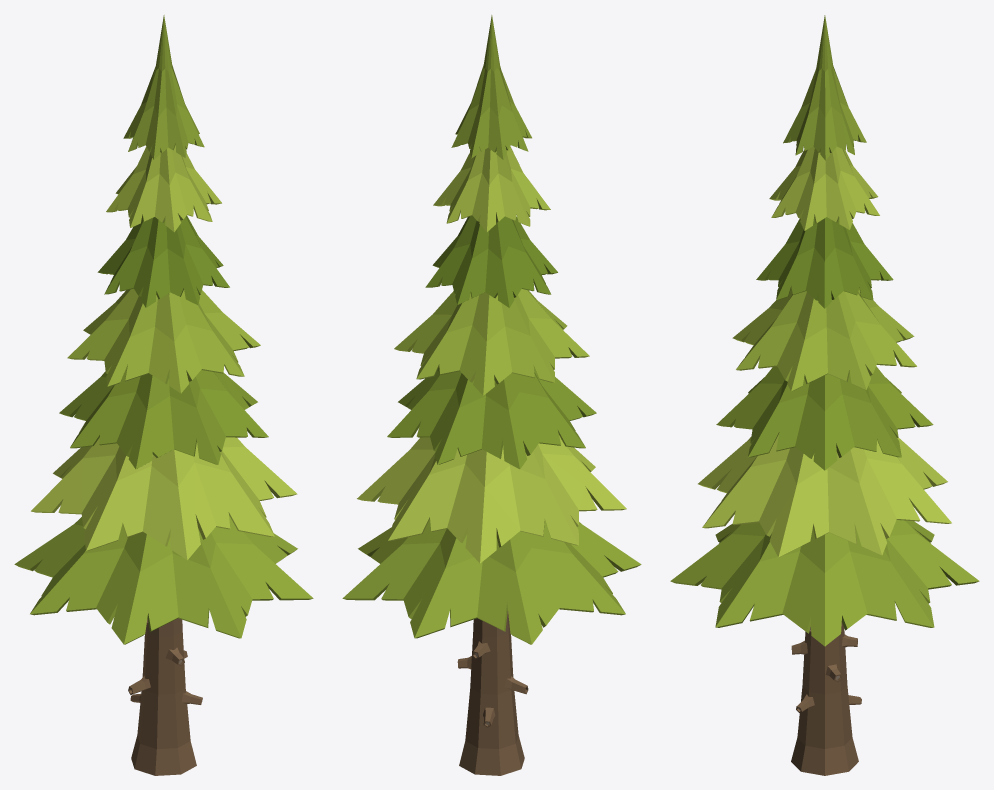
Rendered from NHP_Tree_LP_B1_9m_01.fbx.
The picture shows the model from 3 angles, left to right: view 1: azimuth 30°, elevation 25°; view 2: azimuth 150°, elevation 25°; view 3: azimuth 270°, elevation 25°; orthographic projection.
Visible parts, largest first — view 1: NHP_Tree_LP_B1_9m_01_LOD0; view 2: NHP_Tree_LP_B1_9m_01_LOD0; view 3: NHP_Tree_LP_B1_9m_01_LOD0.
Part boxes in pixels (x1,y1,x2,y2): NHP_Tree_LP_B1_9m_01_LOD0: (14,15,313,775); NHP_Tree_LP_B1_9m_01_LOD0: (342,15,641,775); NHP_Tree_LP_B1_9m_01_LOD0: (670,15,979,775).
Size of what is drawn, in the model's own units: 3.49 by 9.3 by 3.49.
